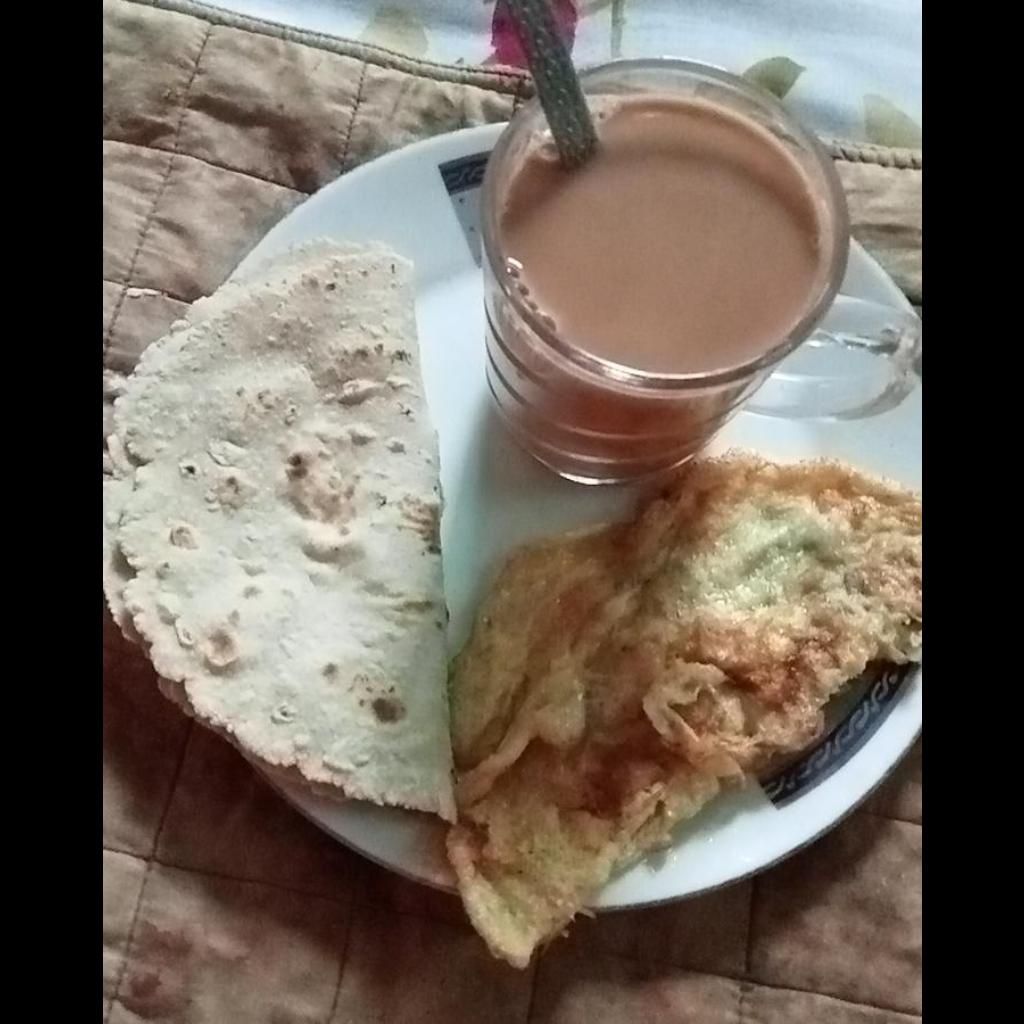cha: (498, 96, 820, 371)
egg-poached: (454, 453, 919, 968)
ruti: (102, 241, 454, 820)
